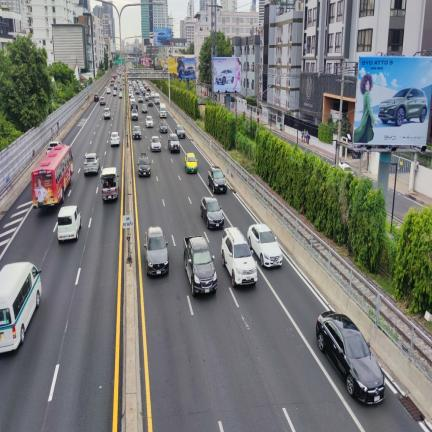bus: (31, 145, 73, 208)
car: (316, 311, 385, 403), (221, 228, 257, 287), (378, 88, 428, 126), (247, 225, 282, 266), (144, 226, 168, 274), (57, 205, 81, 242), (200, 197, 224, 227), (208, 166, 226, 193), (83, 153, 99, 175), (215, 69, 234, 85), (137, 154, 150, 176), (168, 134, 180, 152), (157, 32, 170, 45), (150, 136, 161, 151), (175, 125, 185, 138), (111, 131, 119, 146), (184, 66, 195, 75), (159, 121, 167, 133), (133, 127, 141, 139), (146, 116, 154, 127), (131, 109, 138, 119), (104, 108, 110, 119), (131, 103, 138, 111), (144, 92, 150, 100), (148, 97, 153, 106), (130, 96, 136, 103), (100, 97, 105, 105), (142, 104, 147, 112), (94, 94, 99, 101), (138, 95, 143, 102), (140, 86, 144, 94), (146, 85, 151, 91), (106, 88, 111, 93), (135, 88, 139, 94), (118, 92, 122, 98), (129, 92, 133, 98), (151, 92, 155, 98), (113, 85, 117, 90), (113, 90, 117, 95), (110, 82, 114, 86), (117, 78, 120, 83)
human: (353, 73, 377, 143), (35, 178, 47, 206), (233, 58, 241, 92), (178, 59, 184, 79), (306, 130, 310, 145), (302, 129, 305, 142)
pickup: (184, 235, 216, 296), (132, 110, 138, 119)
taxi: (185, 153, 197, 172)
truck: (101, 167, 119, 200)
van: (0, 263, 41, 352), (160, 103, 166, 117), (131, 103, 138, 111), (154, 94, 160, 103)
